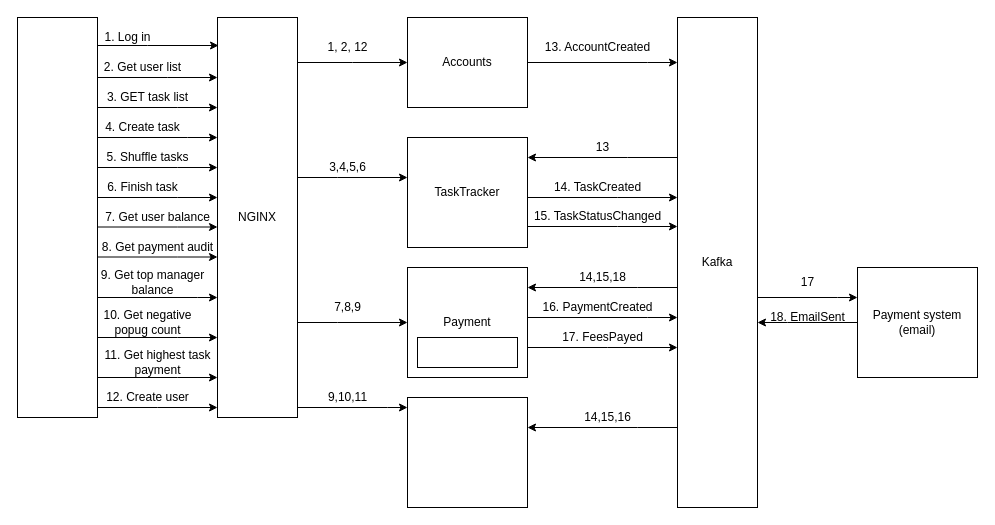
This 995x525 diagram has some shape labels left out. The box of each missing label's shape, as (x1, y1, x2, y2) in pixels:
Analytics: (406, 396, 528, 508)
Timer Payment worker: (416, 336, 518, 368)
UI: (16, 16, 98, 418)
